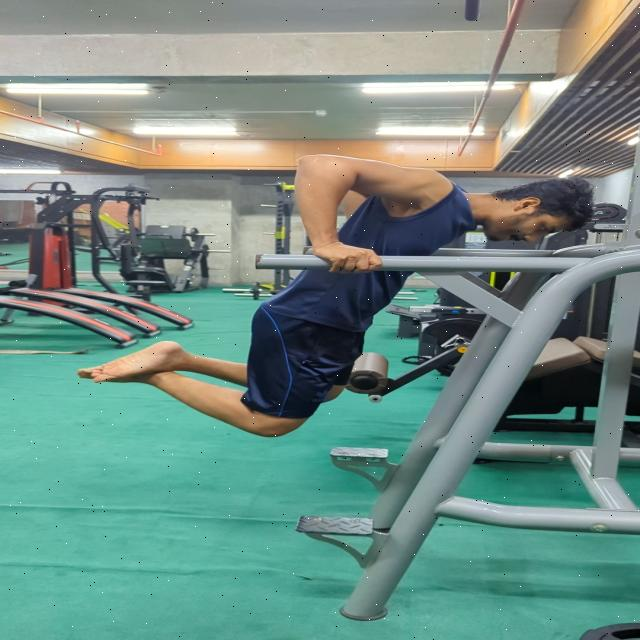Normal_Dips: (65, 152, 596, 440)
